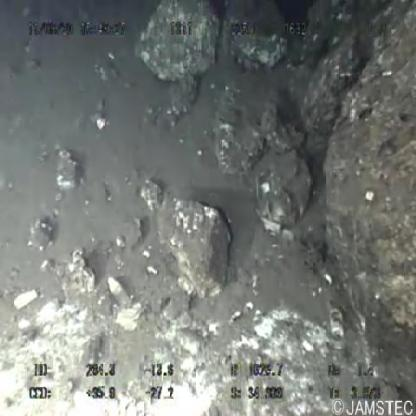Rác: (252, 179, 284, 236), (105, 272, 136, 313)
